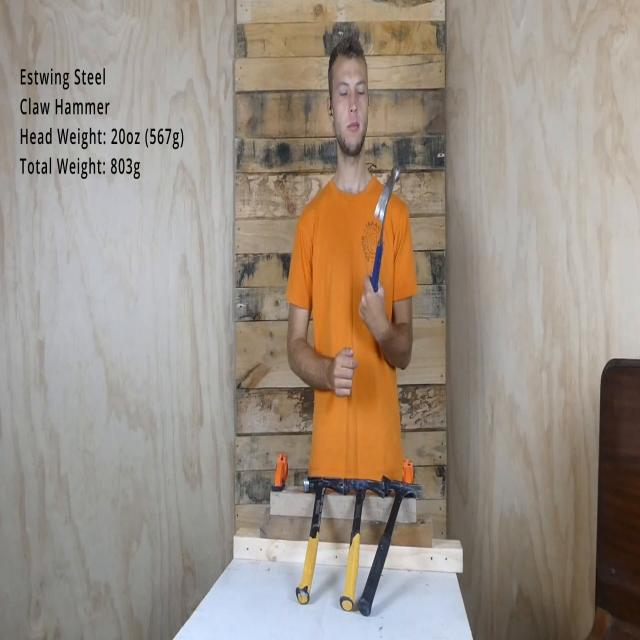hammer: (357, 473, 425, 620), (293, 471, 347, 608), (342, 466, 382, 614), (366, 163, 404, 296)
